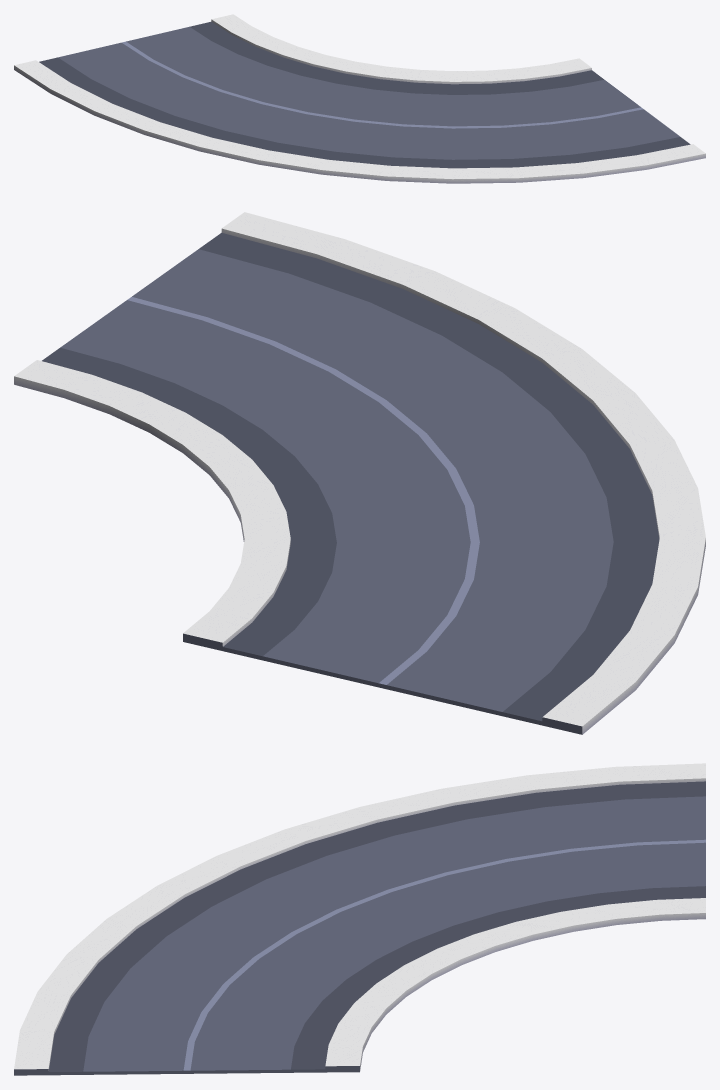
File: road-curve.003_lev2.glb
3 views of the same model, one above another, from view 1: azimuth 30°, elevation 25°; view 2: azimuth 150°, elevation 25°; view 3: azimuth 270°, elevation 25° (orthographic). The views are drawn at different scales.
Visible parts, largest first — view 1: road-curve.003_lev2; view 2: road-curve.003_lev2; view 3: road-curve.003_lev2.
Part boxes in pixels (x1,y1,x2,y2): road-curve.003_lev2: (14, 14, 705, 183); road-curve.003_lev2: (14, 212, 705, 734); road-curve.003_lev2: (14, 763, 705, 1075).
Bounding box in the file's own units: 4.89 × 0.1548 × 4.89.
Materials: 1 (1 with a texture image).
